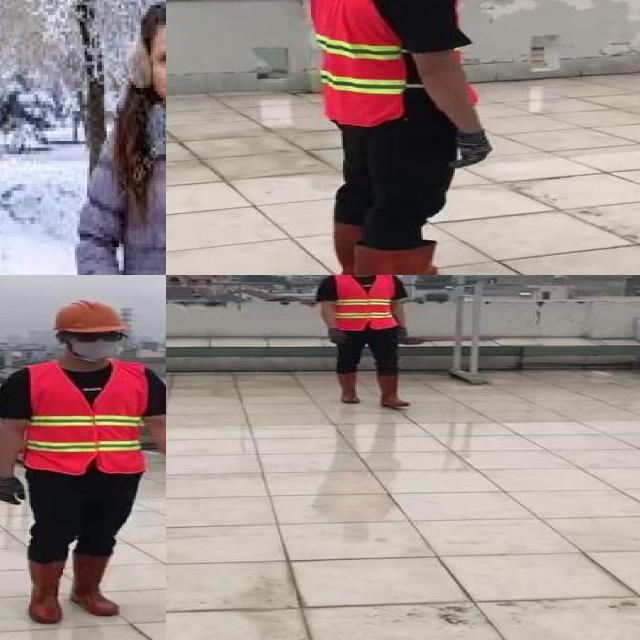Ear-protection: (121, 32, 153, 88)
boots: (318, 214, 449, 275), (353, 240, 487, 275), (72, 551, 122, 616), (24, 555, 68, 624), (376, 372, 414, 407), (334, 370, 364, 404)
face_mask: (68, 329, 124, 362)
glasses: (72, 328, 127, 346)
hand_glove: (450, 131, 498, 170), (0, 477, 29, 507), (396, 327, 412, 345), (324, 335, 350, 345)
head_helmet: (49, 298, 130, 336)
person: (0, 294, 166, 630), (296, 0, 497, 275), (90, 5, 166, 275), (312, 275, 420, 411)
vest: (307, 0, 476, 126), (26, 359, 150, 475), (330, 275, 396, 331)
